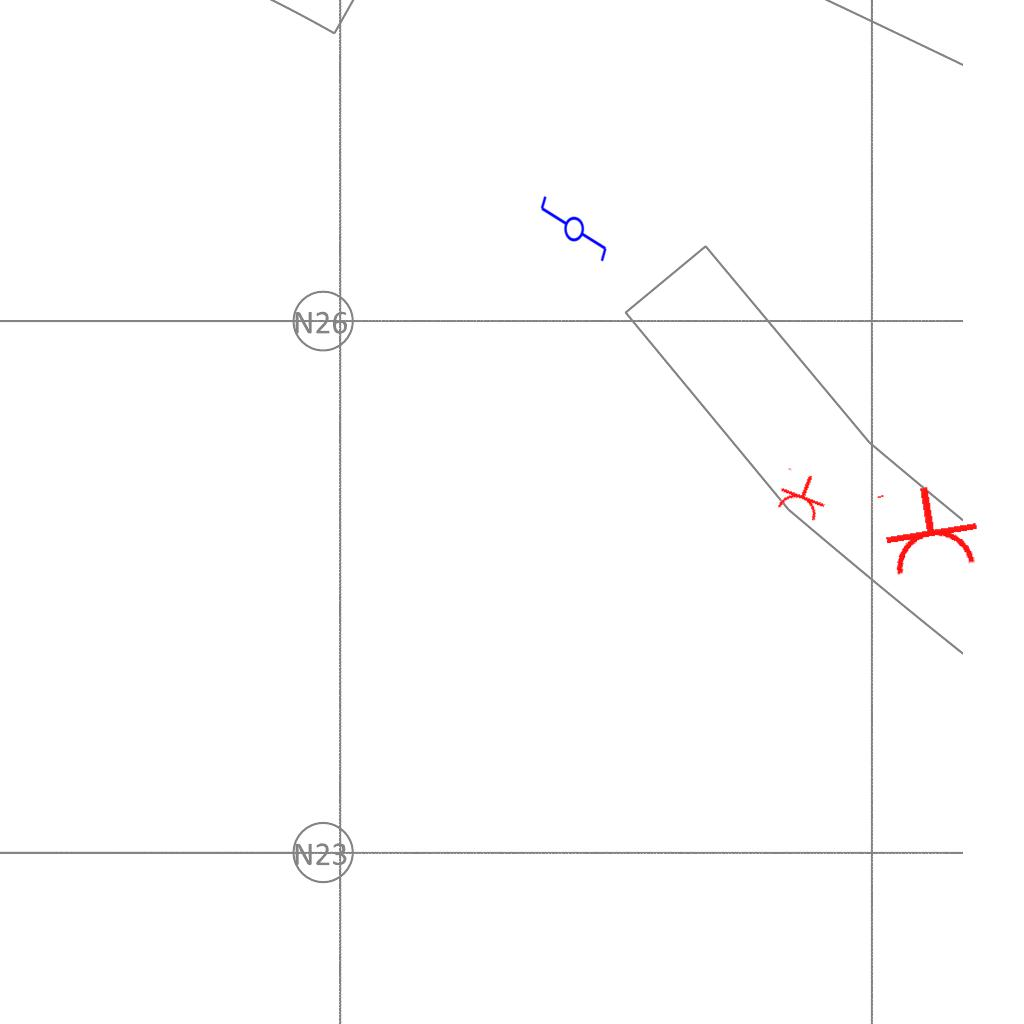Schukosteckdose_einfach: (872, 478, 985, 580), (771, 465, 834, 525)
Wechselschalter: (537, 194, 609, 272)
